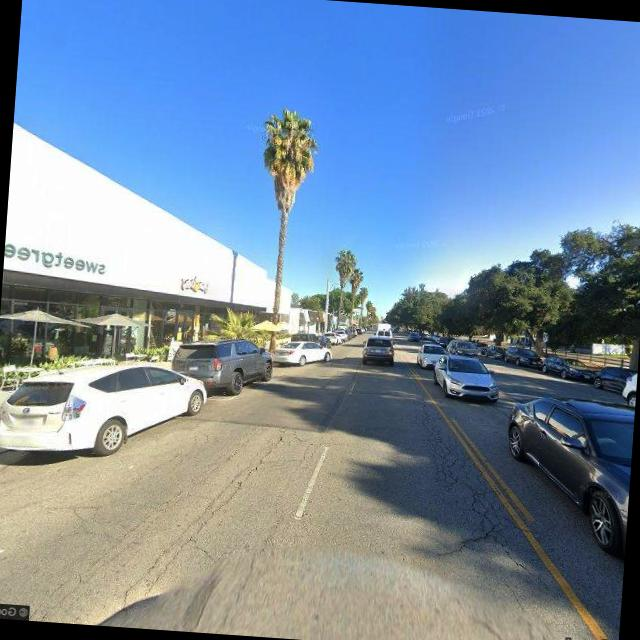crack: (54, 409, 322, 632), (416, 426, 548, 574)
